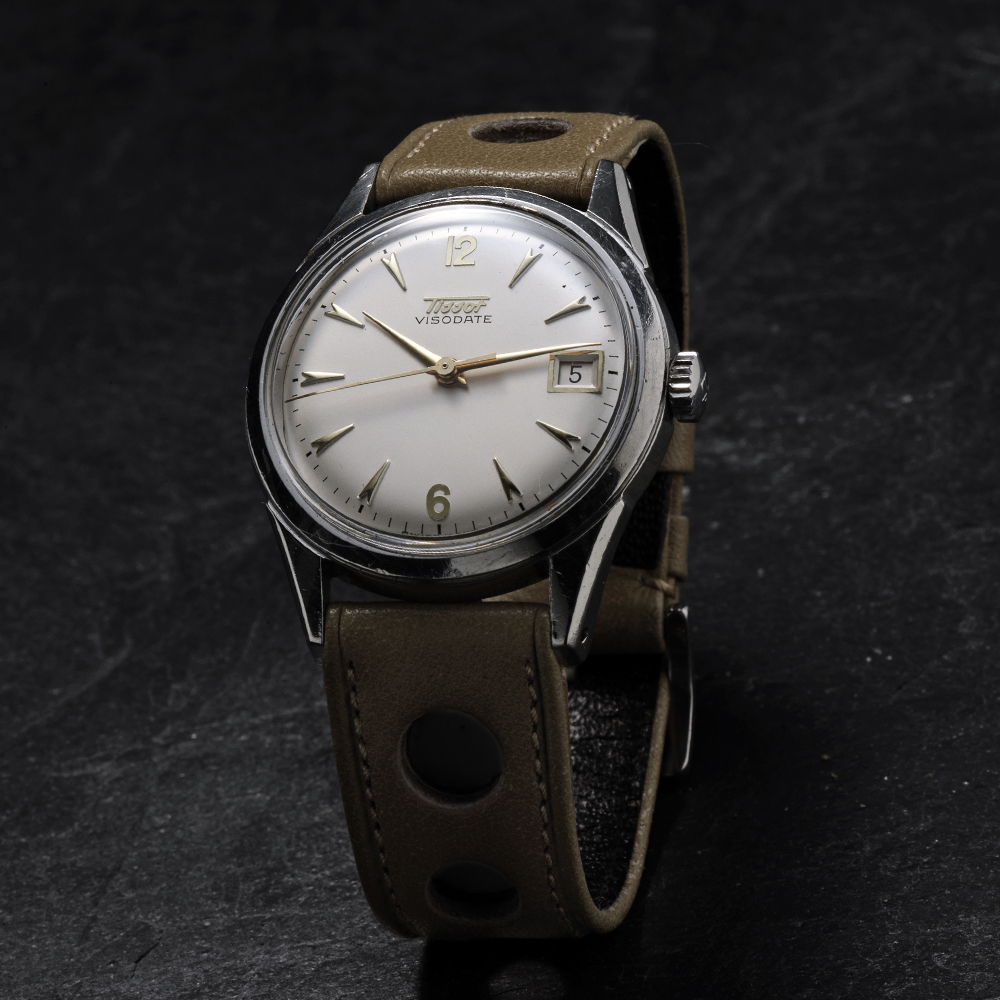clock: (244, 182, 679, 592)
